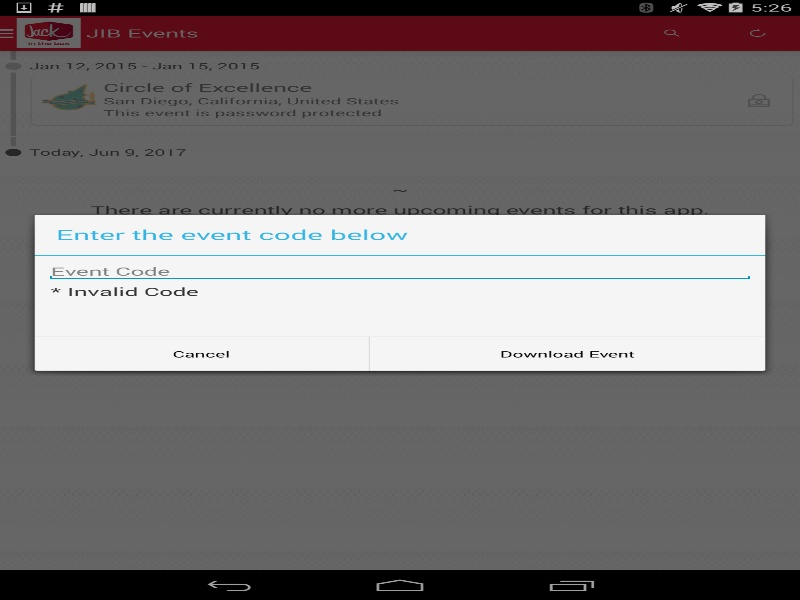Button: (370, 337, 765, 370), (34, 337, 368, 370)
Input: (45, 260, 754, 281)
